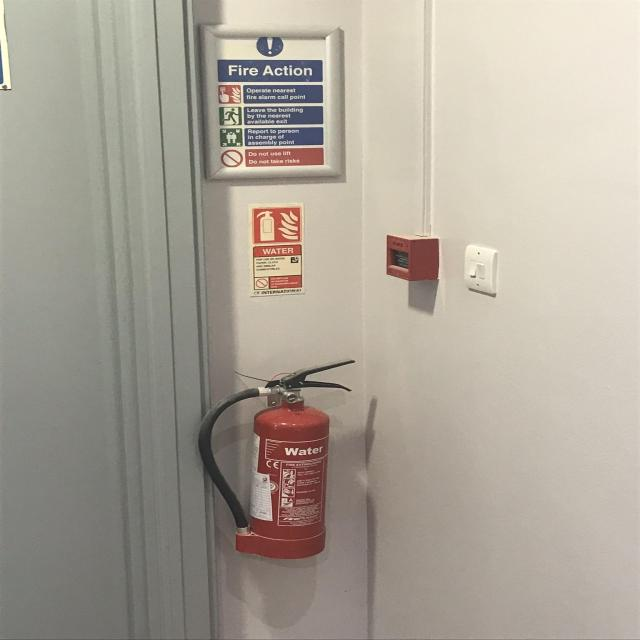fire_extinguisher: (189, 357, 361, 564)
